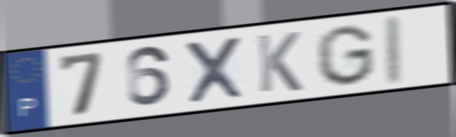6: (124, 44, 174, 111)
7: (56, 50, 110, 119)
G: (313, 23, 377, 88)
I: (382, 12, 406, 88)
K: (254, 30, 305, 95)
X: (181, 34, 248, 107)
